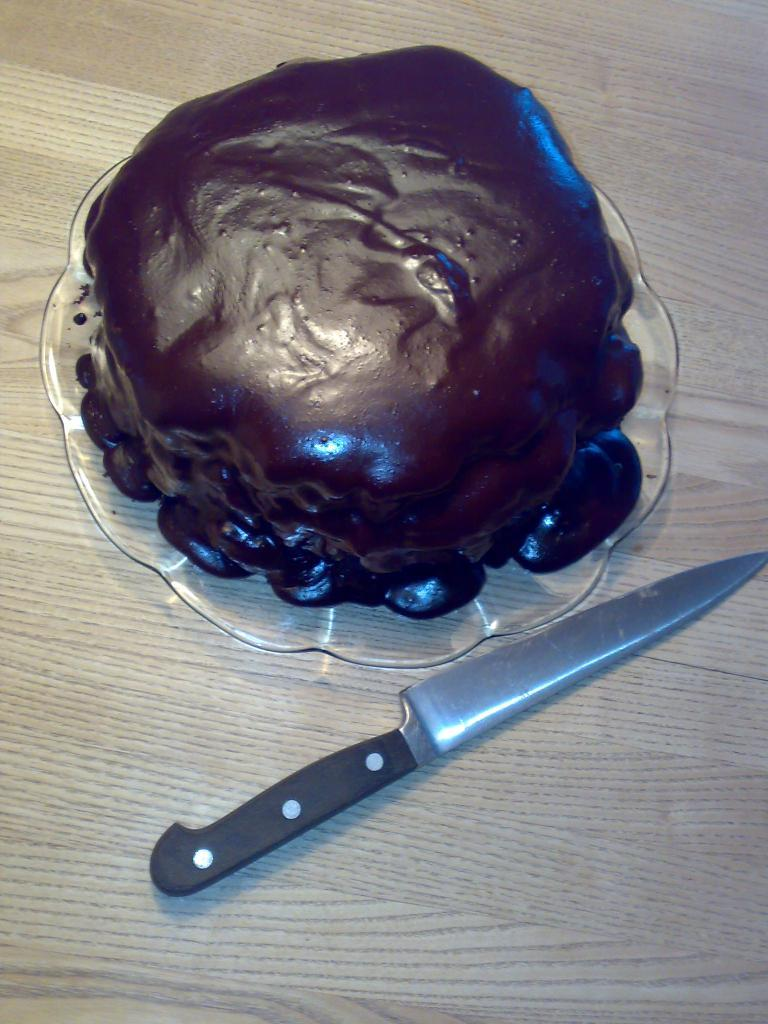Knife: (145, 547, 767, 901)
